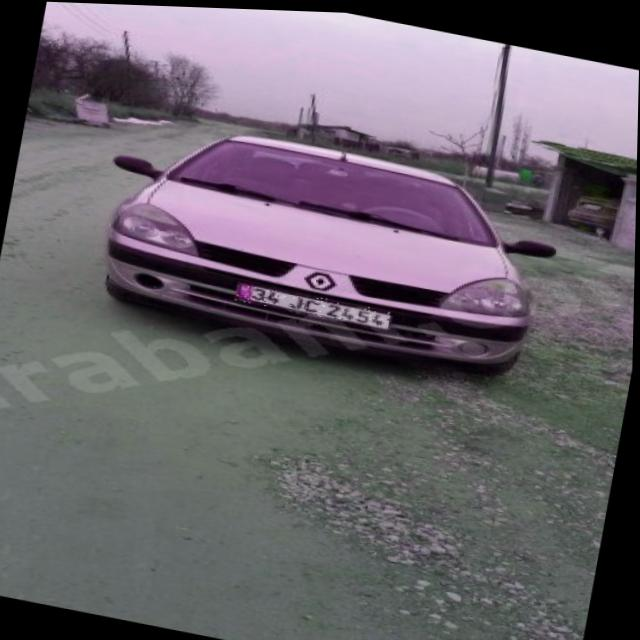license_plate: (235, 279, 393, 327)
